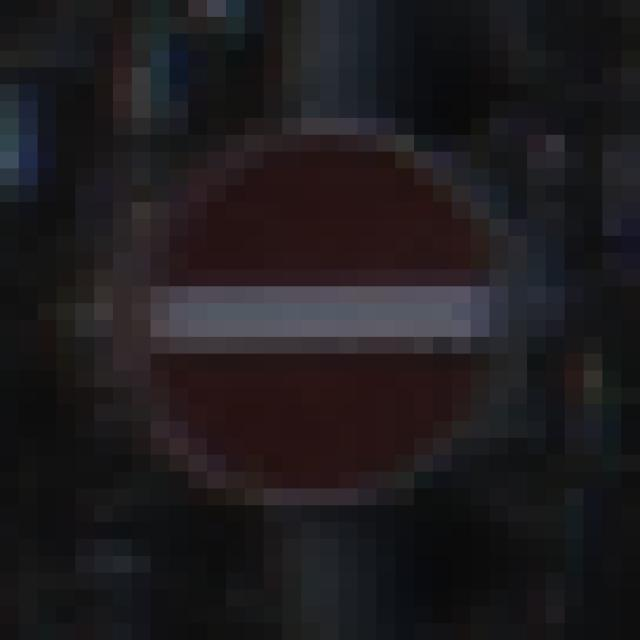No Entry: (95, 85, 547, 557)
